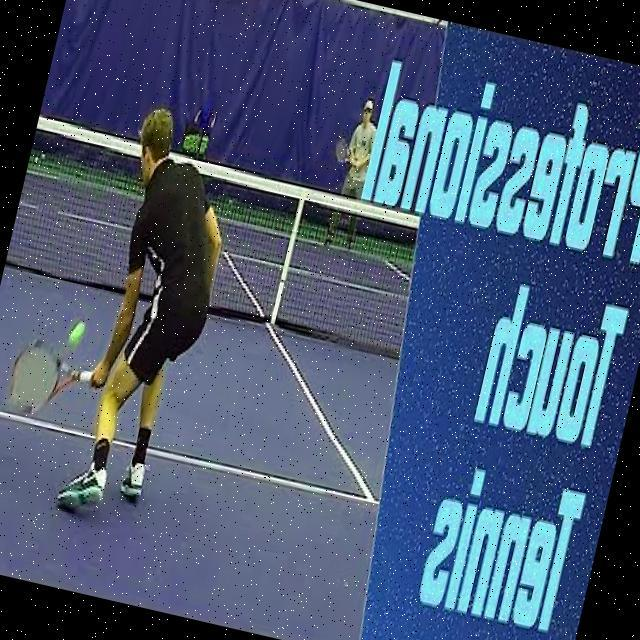net: (1, 118, 429, 370)
player: (0, 79, 263, 521)
